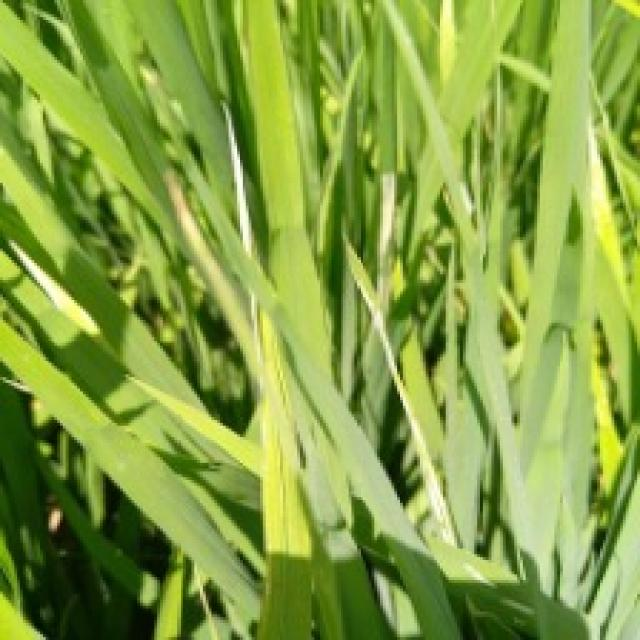Rice___Rice_Blast: (160, 1, 402, 637)
